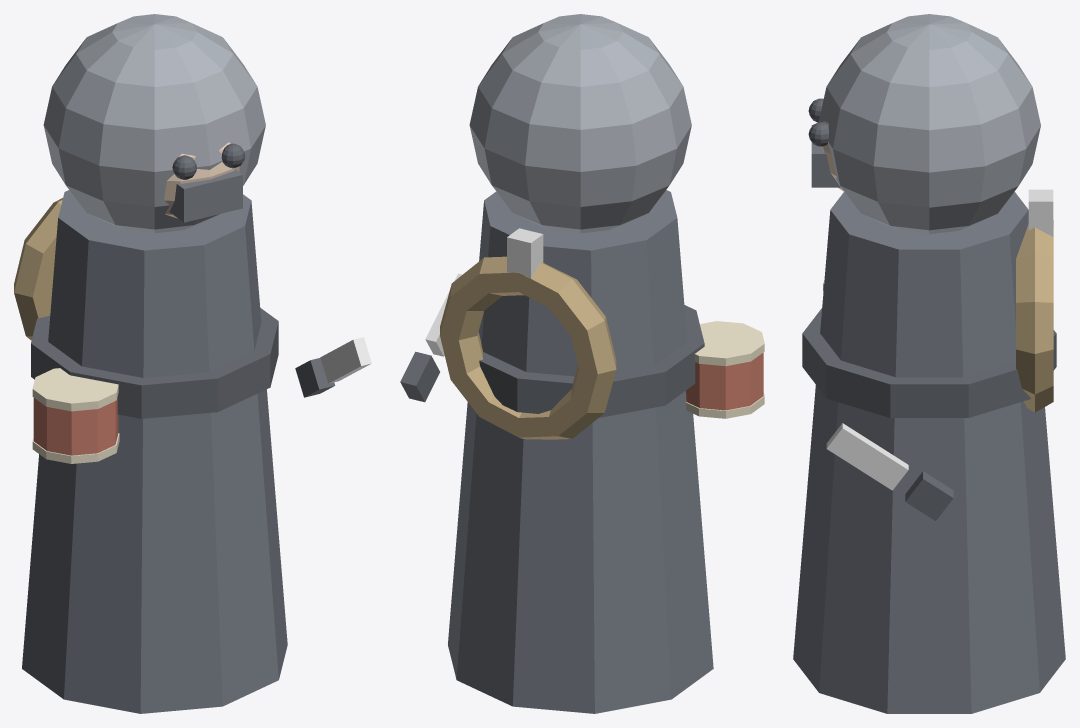
The model's file is shiqian_legacy.glb.
3 renders of one model, left to right at view 1: azimuth 30°, elevation 25°; view 2: azimuth 150°, elevation 25°; view 3: azimuth 270°, elevation 25°, orthographic.
Parts seen in each view (by area): view 1: ShiQian; view 2: ShiQian; view 3: ShiQian.
Part boxes in pixels (bbox=[...]): ShiQian: bbox=[14, 14, 371, 713]; ShiQian: bbox=[400, 14, 764, 713]; ShiQian: bbox=[793, 14, 1065, 713].
Size of the model in its own units: 0.5885 by 1.13 by 0.44.
